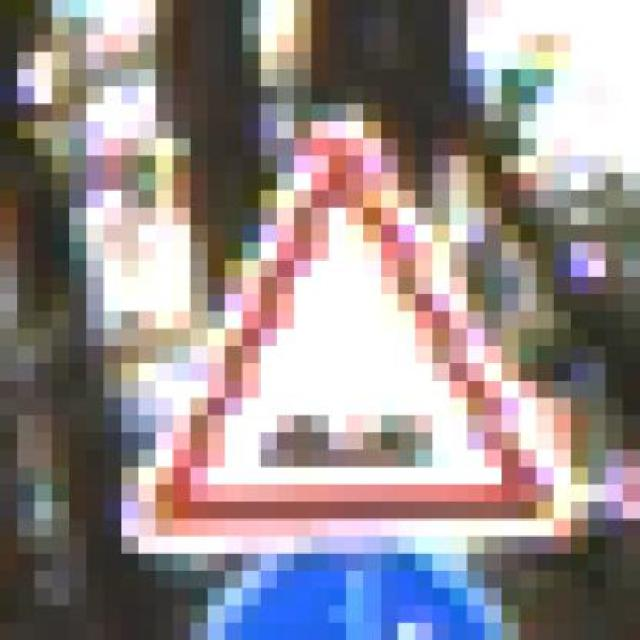Uneven Road: (121, 103, 553, 554)
